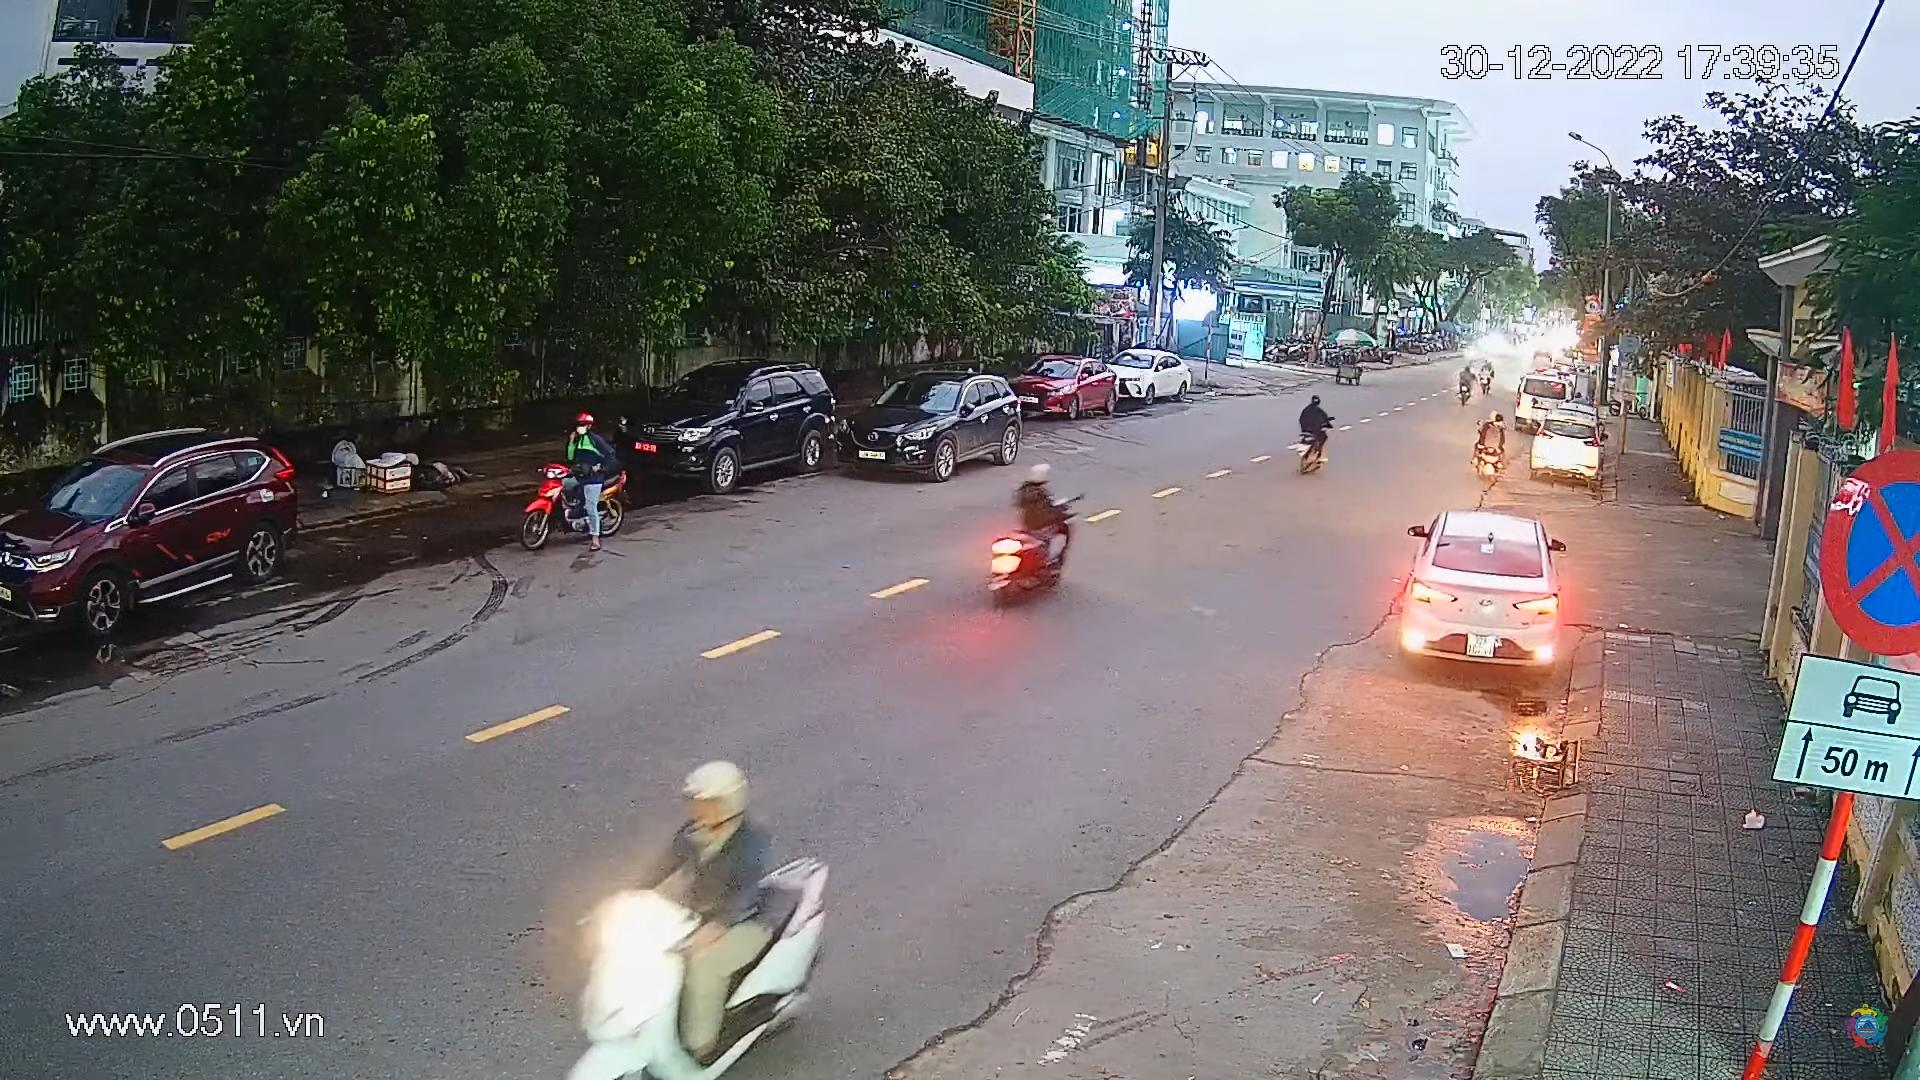car: (0, 411, 313, 645), (1381, 488, 1584, 682), (624, 357, 839, 497), (849, 365, 1023, 481), (1010, 355, 1121, 422), (1531, 414, 1602, 491), (1100, 348, 1189, 405), (1511, 371, 1573, 438)
motorcycle: (556, 736, 919, 1080), (512, 400, 636, 568), (984, 443, 1098, 612), (1291, 389, 1332, 472), (1470, 409, 1506, 492), (1455, 361, 1477, 410), (1476, 356, 1495, 396)
